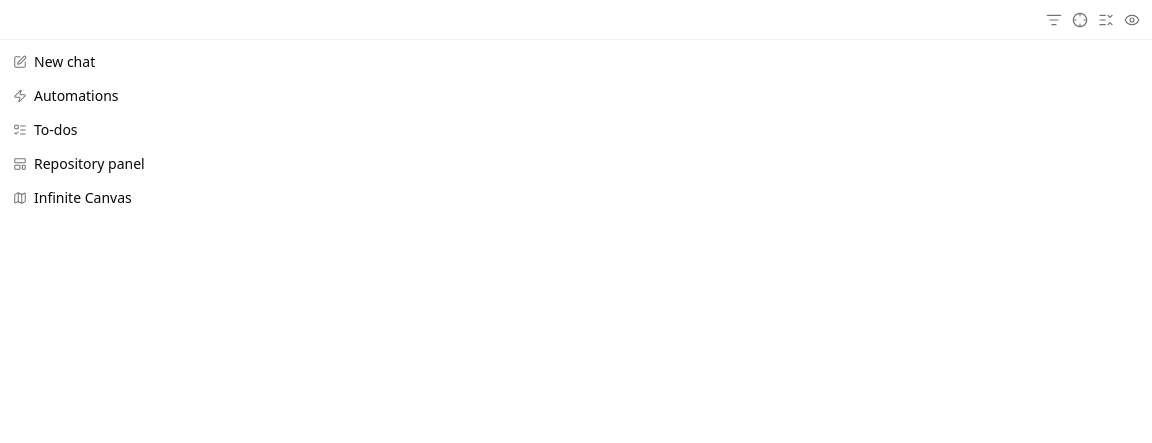
Test: Sidebar — Navigation item visibility › hides a row when its menu toggle is switched off, and persists it
Click the button named "View options".
click(1132, 20)  # box x1=1120 y1=8 x2=1144 y2=32
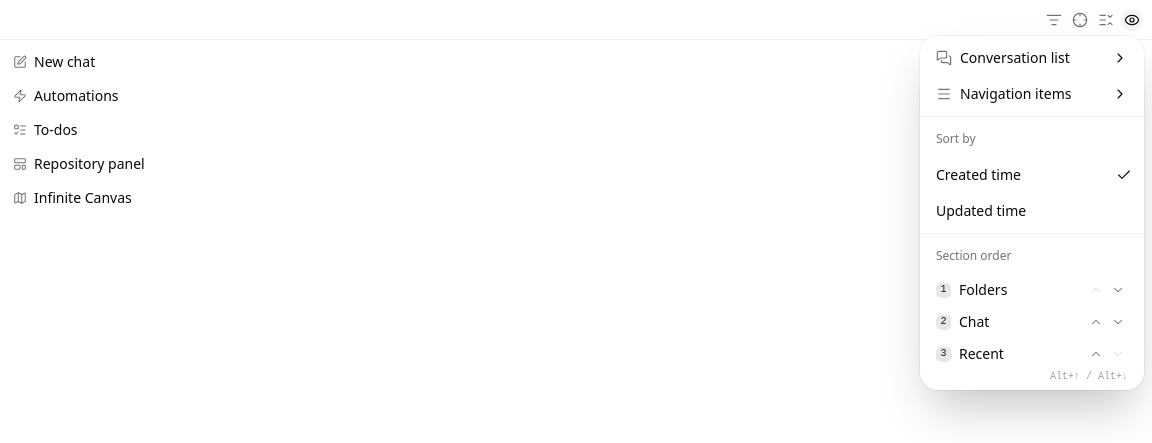
Click the menu item "Navigation items".
click(1032, 94)  # box x1=936 y1=84 x2=1128 y2=103
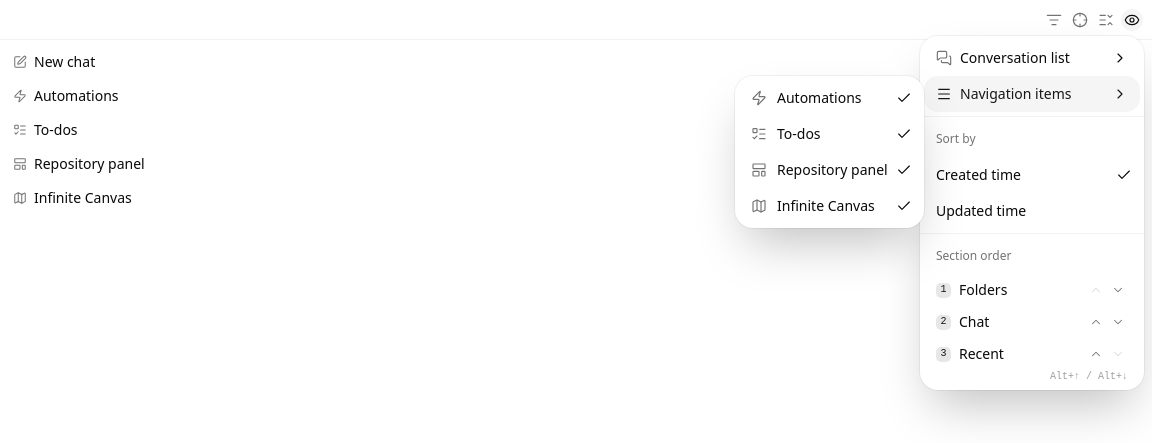
Click the menu item "Automations".
click(831, 98)  # box x1=751 y1=88 x2=912 y2=107
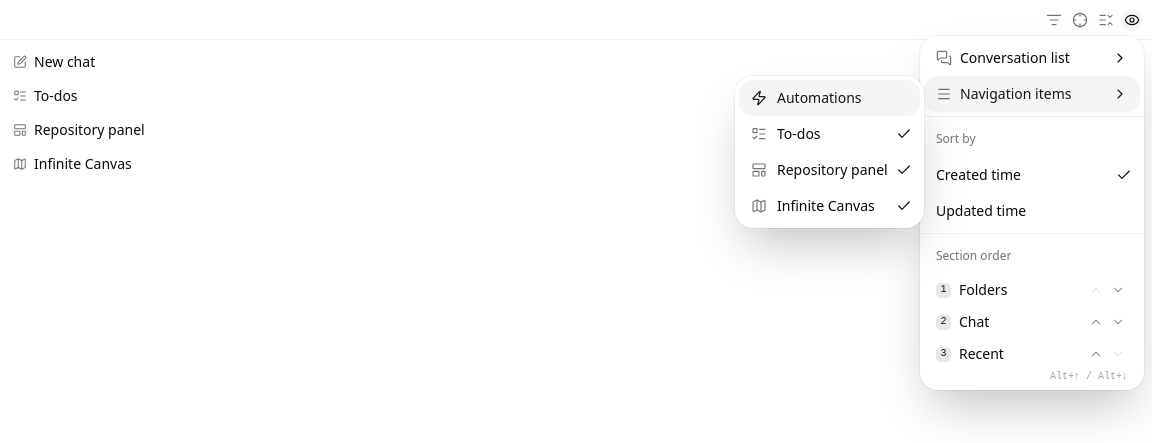
Expected: the menu item "Automations" is shown, x1=739 y1=80 x2=920 y2=116
Press Escape
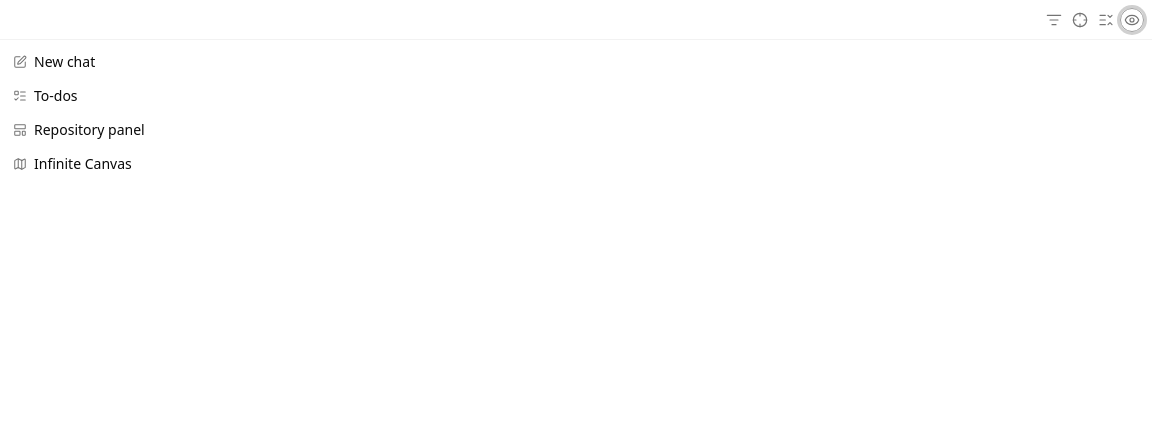
Expected: the button "To-dos" is shown, x1=6 y1=80 x2=1146 y2=112
Result: the menu item "Automations" is gone
